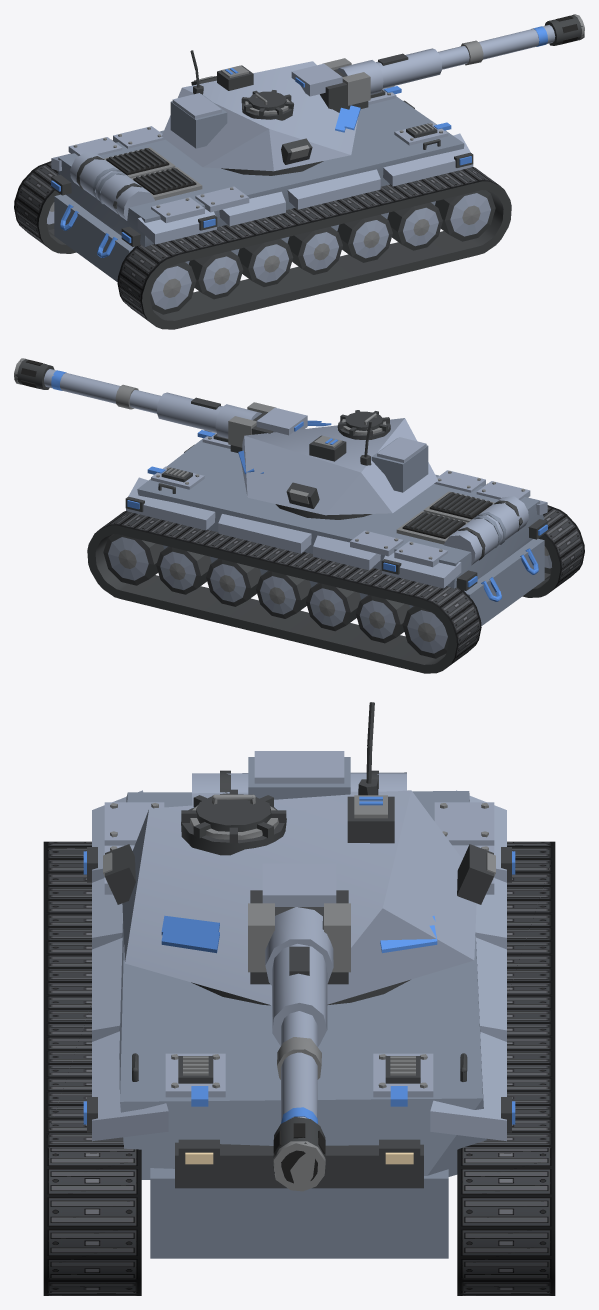
File: tank.glb
3 views of the same model, one above another, from view 1: azimuth 30°, elevation 25°; view 2: azimuth 150°, elevation 25°; view 3: azimuth 270°, elevation 25° (orthographic). The views are drawn at different scales.
Visible parts, largest first — view 1: Hull, TrackR, Turret, Gun, TrackL, WheelT7, WheelT8, WheelT9, WheelT11, WheelT10, WheelT12, WheelT13; view 2: Hull, TrackL, Turret, Gun, TrackR, WheelT0, WheelT2, WheelT3, WheelT4, WheelT1, WheelT5, WheelT6; view 3: Hull, Turret, TrackR, TrackL, Gun.
Part boxes in pixels (x1,y1,x2,y2): Hull: (51, 15, 577, 281); TrackR: (117, 167, 511, 329); Turret: (161, 50, 408, 175); Gun: (337, 14, 584, 94); TrackL: (14, 161, 76, 253); WheelT7: (435, 190, 495, 241); WheelT8: (387, 202, 442, 250); WheelT9: (337, 214, 392, 262); WheelT11: (237, 239, 293, 286); WheelT10: (287, 226, 342, 274); WheelT12: (189, 251, 243, 299); WheelT13: (150, 262, 196, 314); Hull: (21, 360, 547, 625); TrackL: (87, 511, 481, 673); Turret: (191, 397, 437, 519); Gun: (14, 358, 261, 438); TrackR: (522, 505, 584, 597); WheelT0: (103, 534, 163, 585); WheelT2: (206, 558, 261, 606); WheelT3: (256, 570, 311, 618); WheelT4: (306, 583, 361, 631); WheelT1: (156, 546, 211, 594); WheelT5: (355, 595, 410, 643); WheelT6: (402, 606, 448, 658); Hull: (83, 770, 515, 1258); Turret: (103, 702, 495, 1005); TrackR: (43, 841, 141, 1295); TrackL: (457, 841, 555, 1295); Gun: (265, 907, 333, 1191).
Bounding box in the file's own units: 12.19 × 4.53 × 5.4.
Materials: 8 (1 with a texture image).
